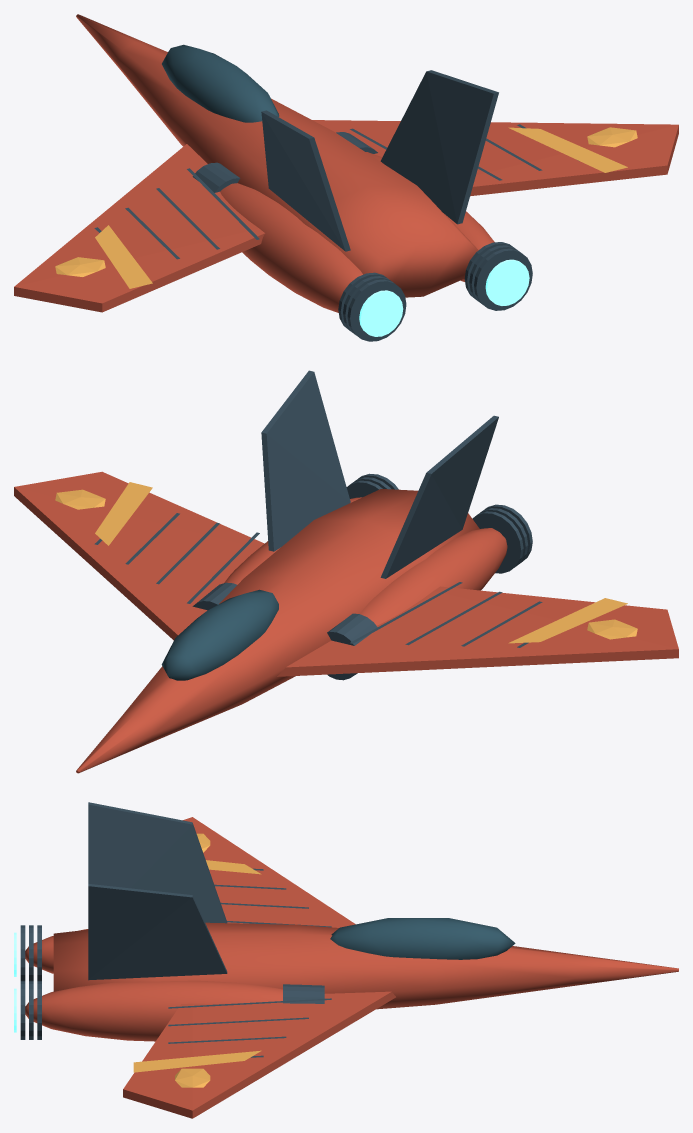
File: interceptor.glb
The picture shows the model from 3 angles, top to bottom: view 1: azimuth 30°, elevation 25°; view 2: azimuth 150°, elevation 25°; view 3: azimuth 270°, elevation 25°; orthographic projection. The views are drawn at different scales.
Parts seen in each view (by area): view 1: interceptor; view 2: interceptor; view 3: interceptor.
Part boxes in pixels (bbox=[...]): interceptor: bbox=[14, 14, 678, 341]; interceptor: bbox=[14, 370, 678, 773]; interceptor: bbox=[14, 802, 678, 1118].
Size of the model in its own units: 18 by 4.77 by 17.23.
